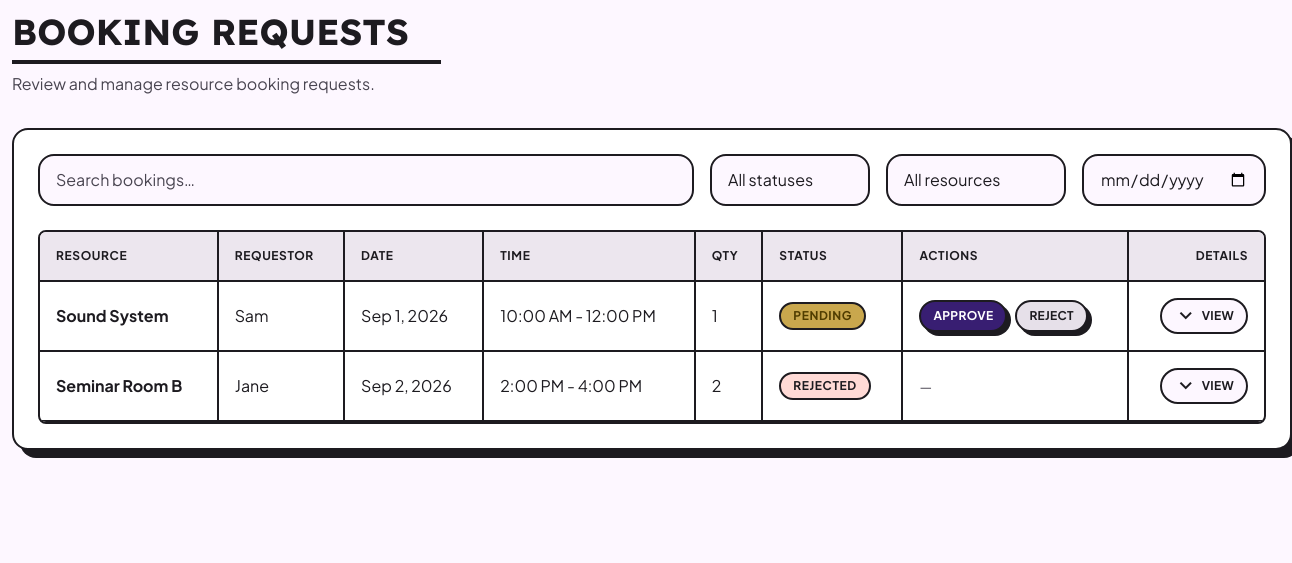
Test: AdminBookingsPage › approves a pending booking
The image size is (1292, 563).
Click the button "Approve": (963, 316) [919,300,1007,332]
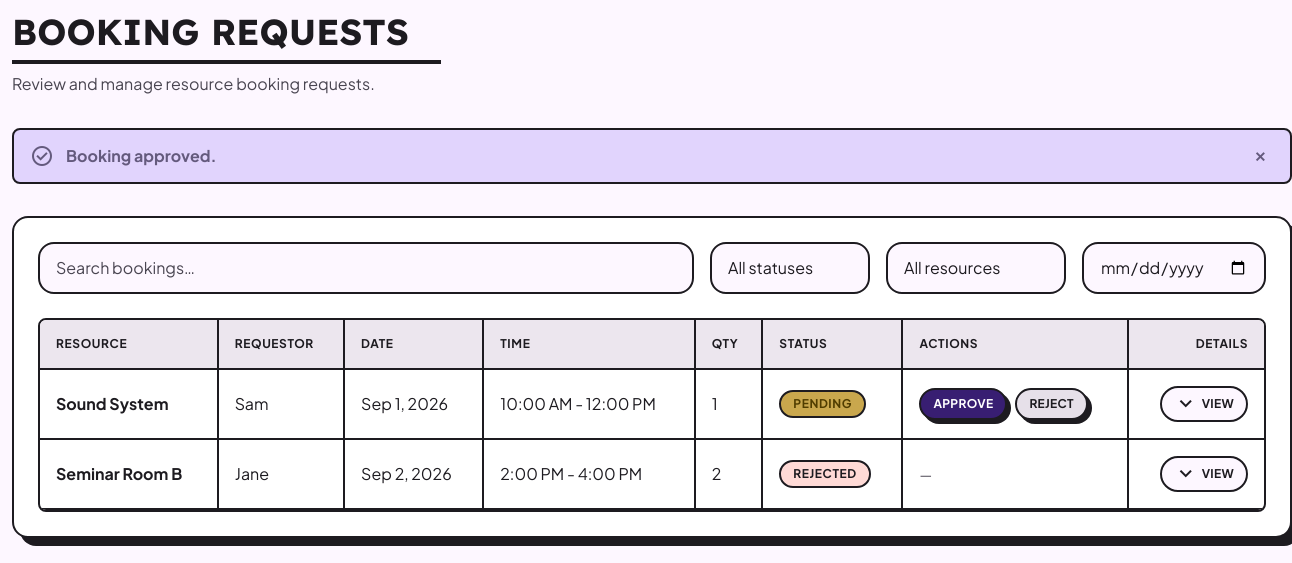
Now the text "Booking approved." is shown, box [66,144,216,168]
